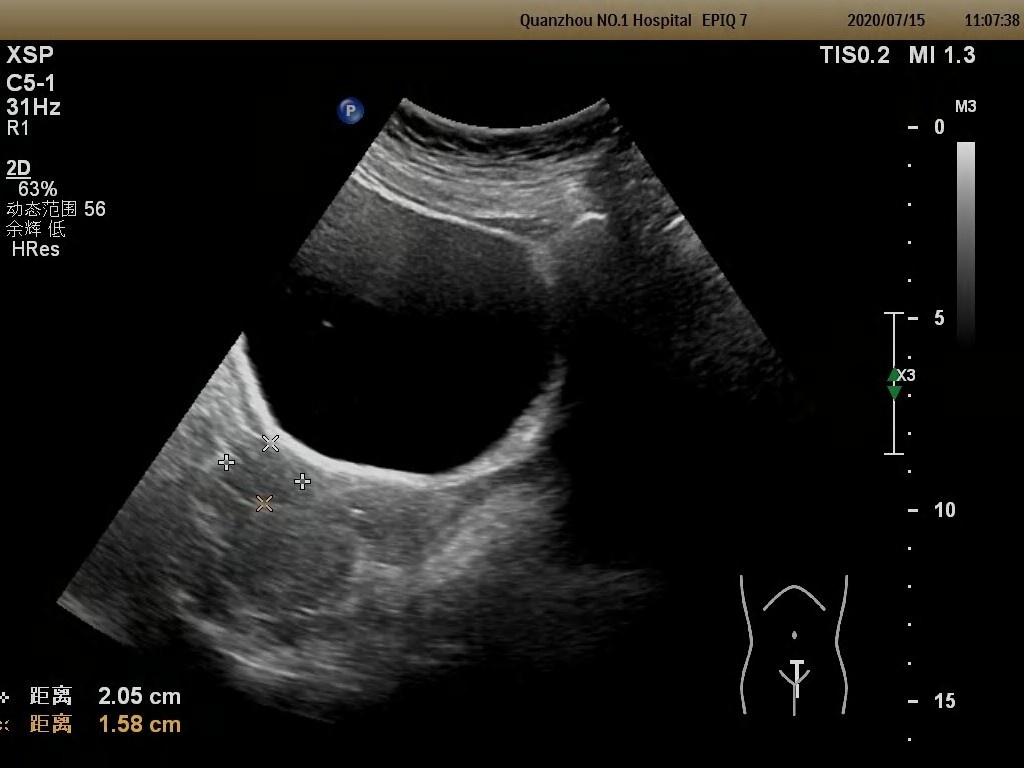肌瘤: (226, 444, 303, 505)
